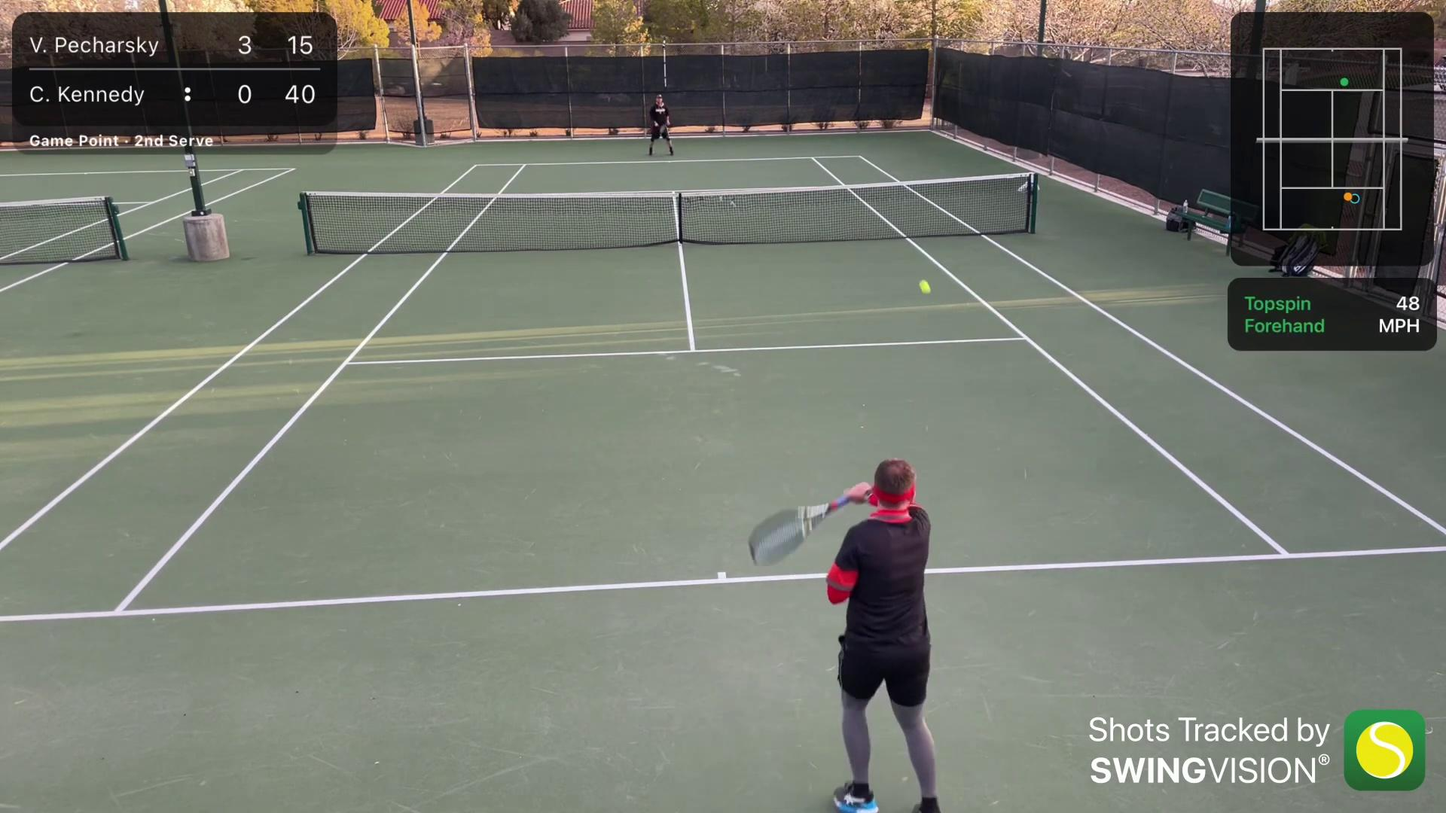ball: (917, 277, 933, 295)
